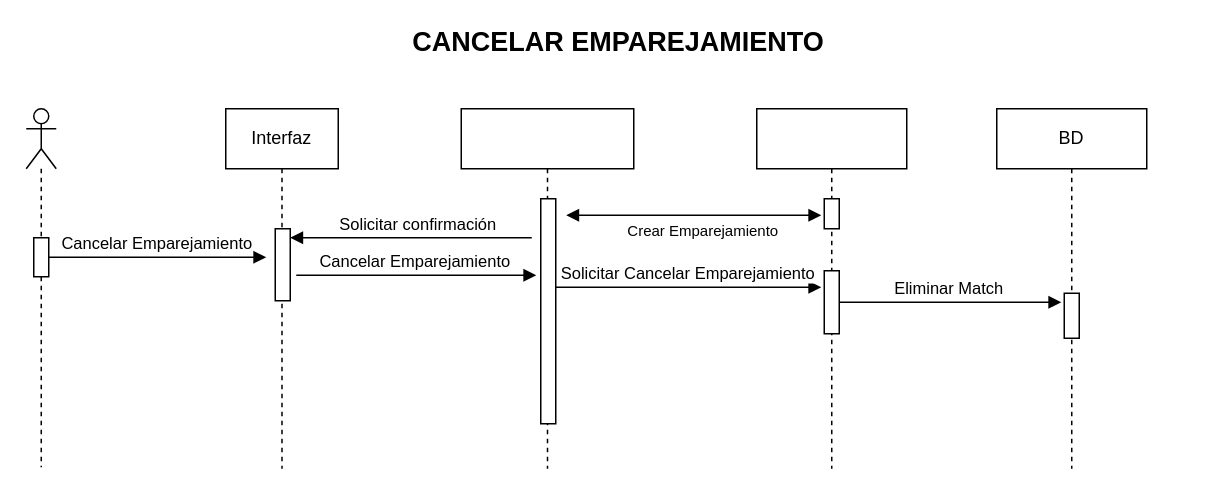
The diagram is 1223 pixels wide and 495 high, and some of its shapes have lost their labels. The shapes that lost their labels are listed below. From the top down, each one's box as (x1, y1, x2, y2) in pixels, then its label:
(460, 107, 634, 469): Aplicación
(755, 107, 907, 469): Servidor
